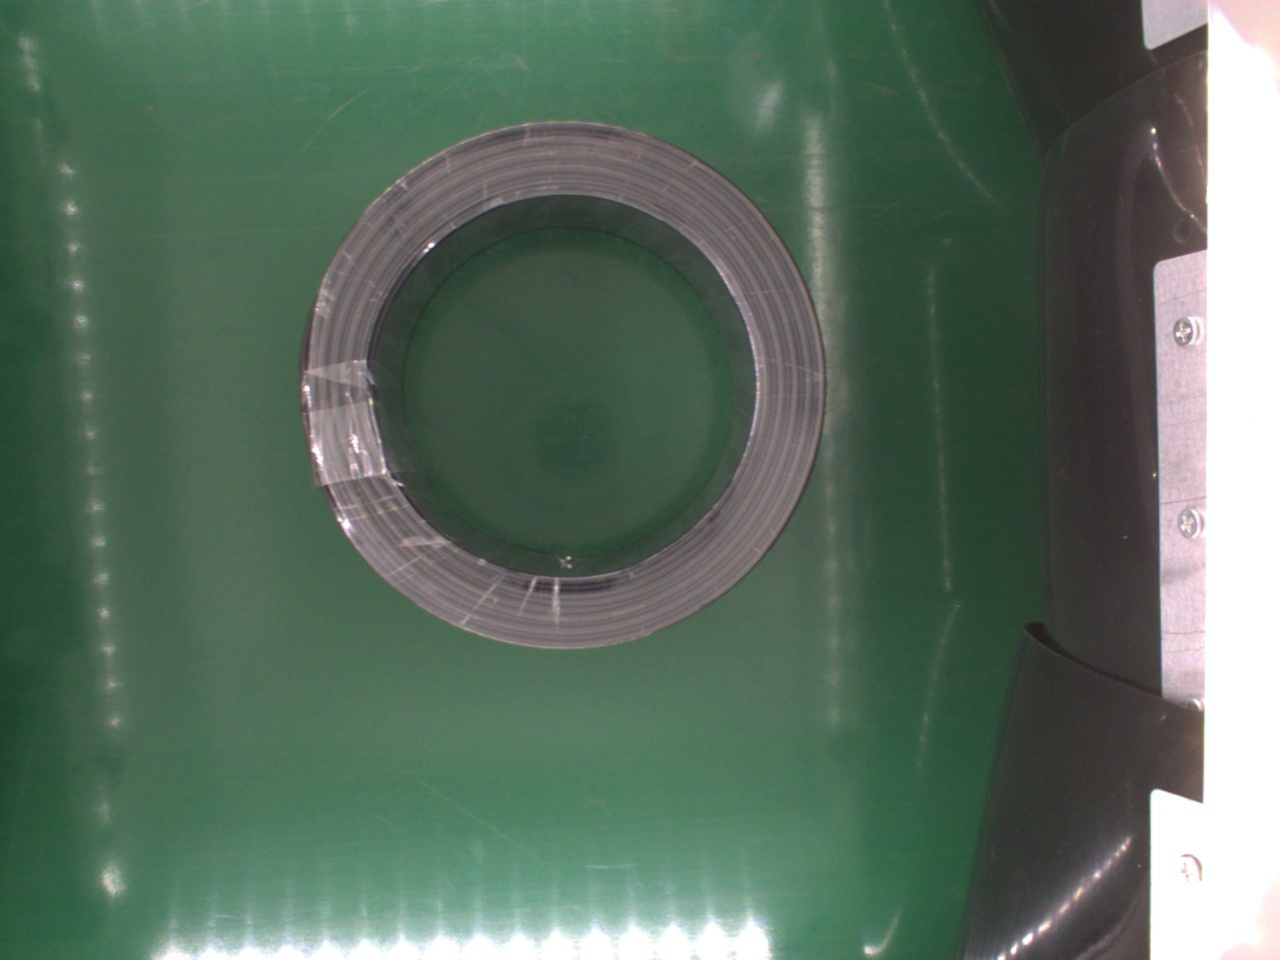black: (299, 122, 825, 654)
